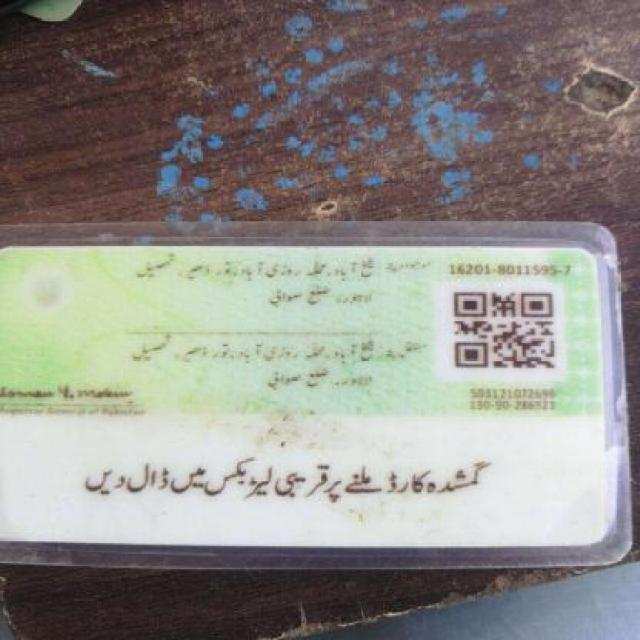Back: (1, 239, 618, 563)
